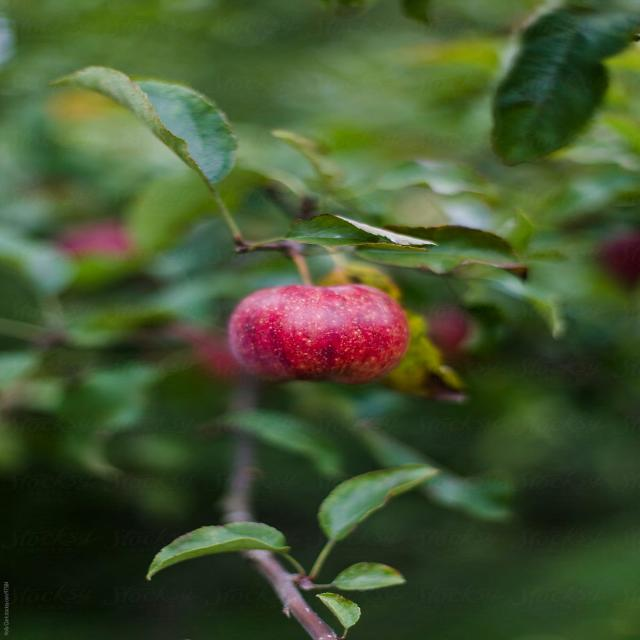Apple: (221, 282, 412, 383)
